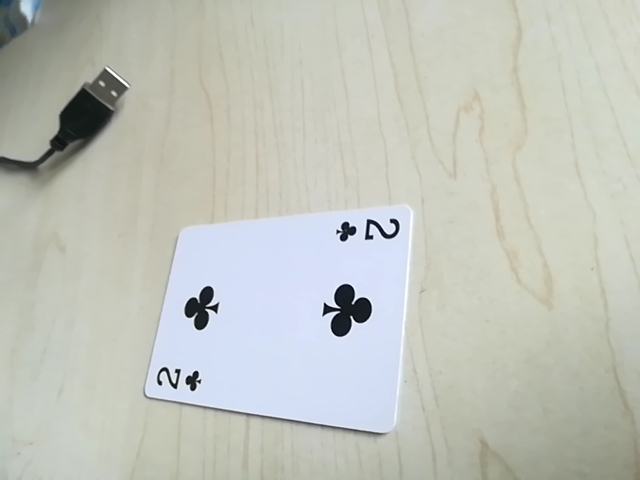mh 2: (333, 211, 405, 248), (149, 362, 209, 400)
